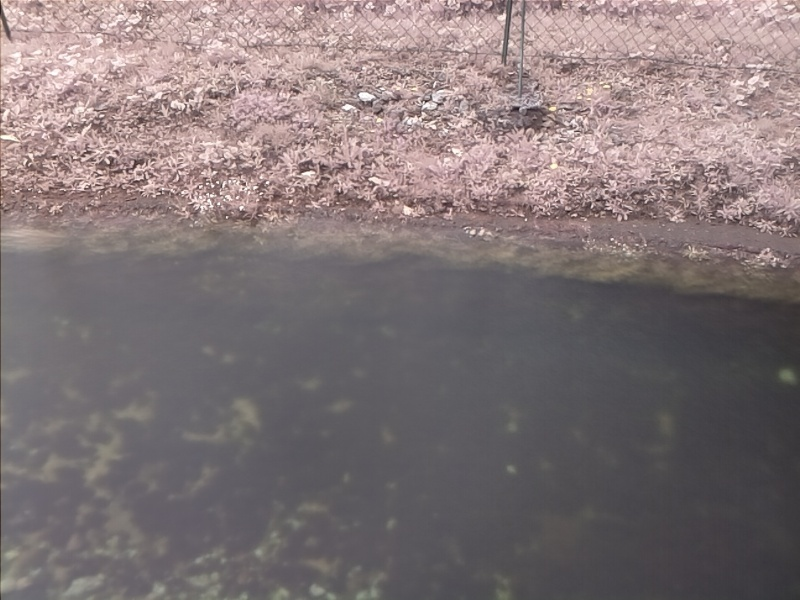Water: (1, 210, 798, 600)
